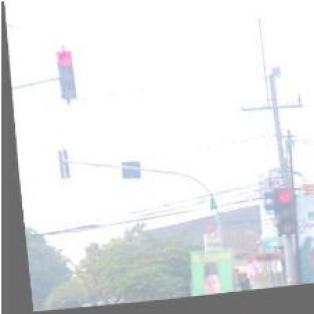Semaforo Rojo: (51, 49, 78, 102), (267, 192, 292, 242)
